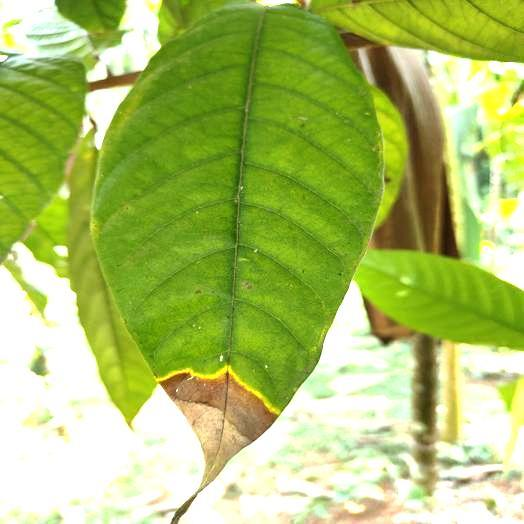Potassium: (92, 5, 381, 482)
